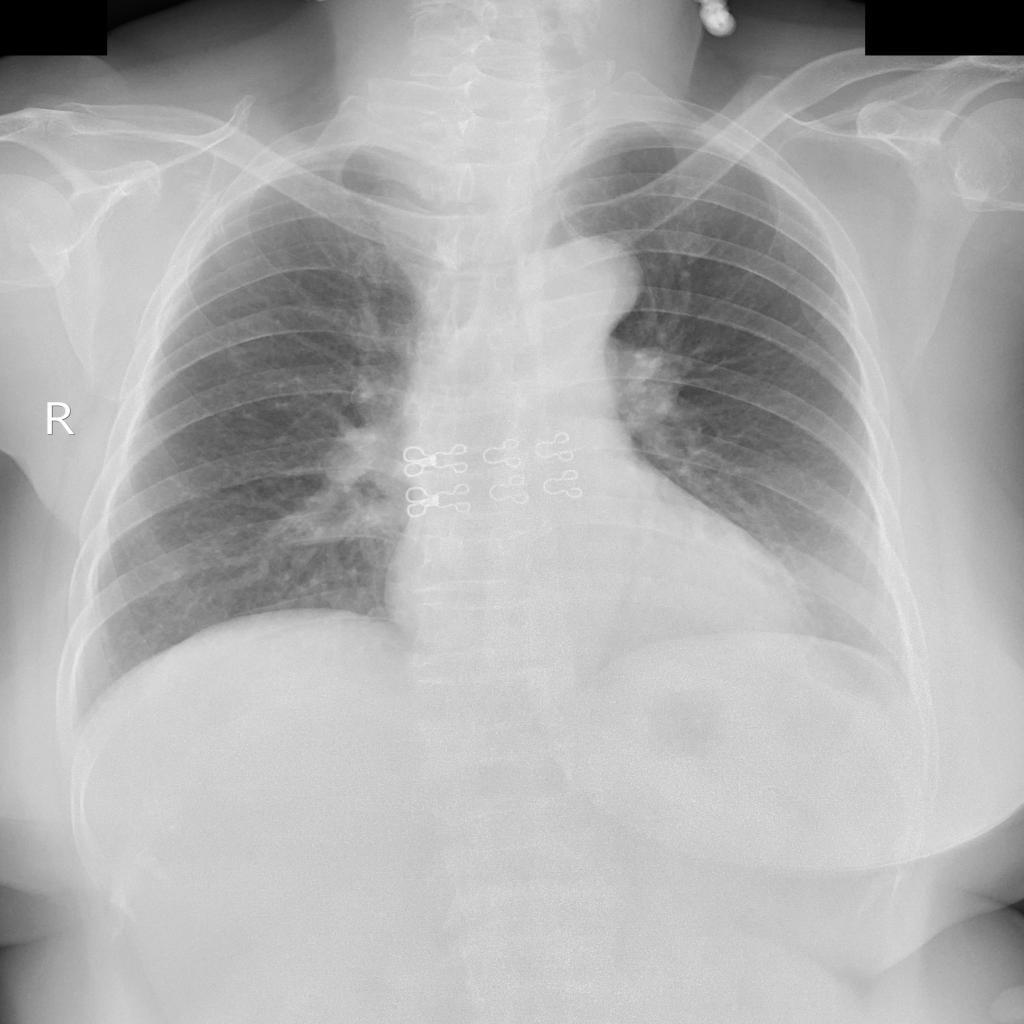Nodule: (592, 335, 684, 439)
